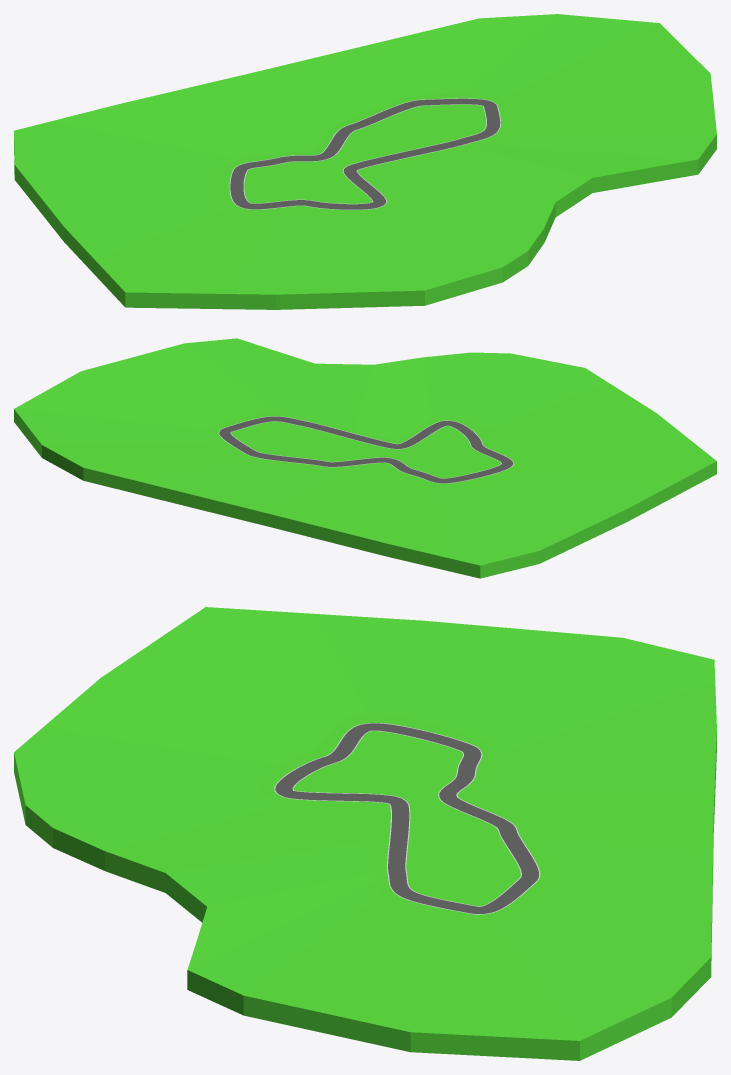
3 views of the same model, one above another, from view 1: azimuth 30°, elevation 25°; view 2: azimuth 150°, elevation 25°; view 3: azimuth 270°, elevation 25° (orthographic). The views are drawn at different scales.
Visible parts, largest first — view 1: Road-col; view 2: Road-col; view 3: Road-col.
Part boxes in pixels (bbox=[...]): Road-col: bbox=[14, 14, 716, 309]; Road-col: bbox=[14, 338, 716, 578]; Road-col: bbox=[14, 607, 716, 1060].
Bounding box in the file's own units: 133 × 2.87 × 91.34.
